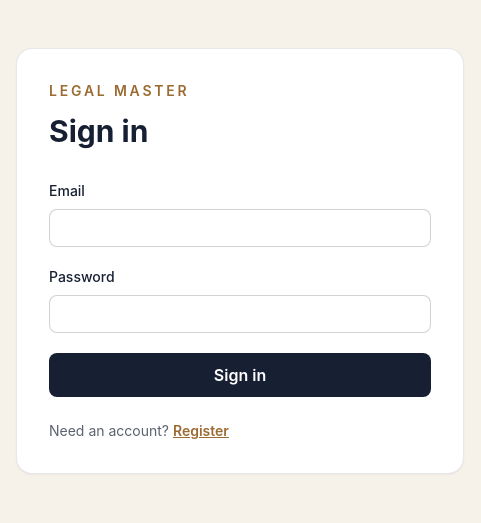
Scenario: authentication pages › failed login displays a safe error
This screenshot has width=481, height=523.
Type "lawyer@example.com" into the field labelled "Email". click: (240, 228)
box: left=49, top=209, right=431, bottom=247
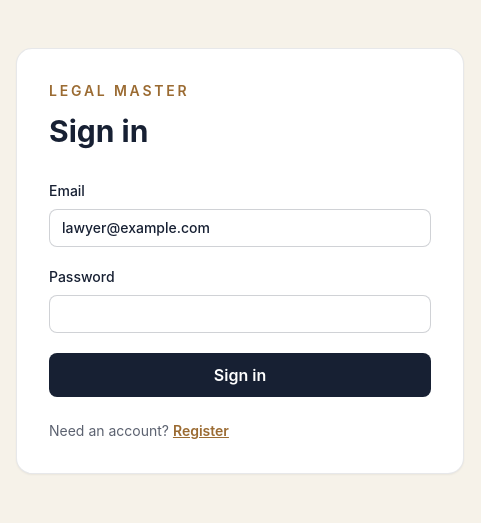
Type "wrong-password" into the password field labelled "Password". click: (240, 314)
box: left=49, top=295, right=431, bottom=333
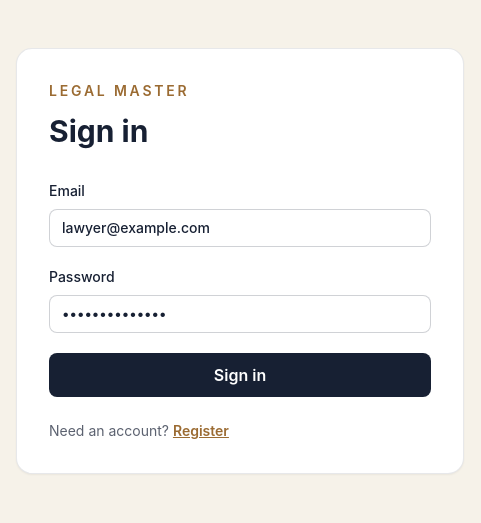
Click the button "Sign in". click: (240, 375)
box: left=49, top=353, right=431, bottom=397
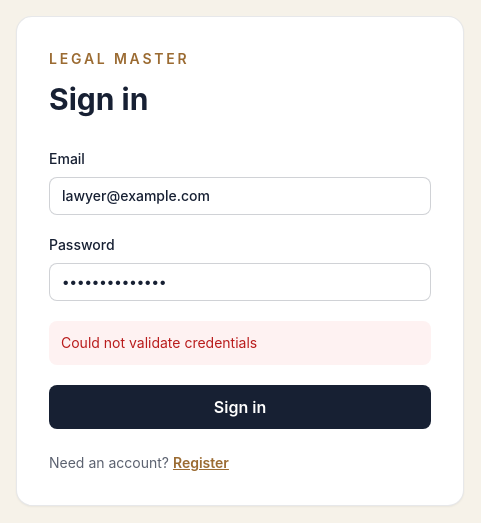
Result: the message reads "Could not validate credentials" at left=61, top=334, right=257, bottom=351
